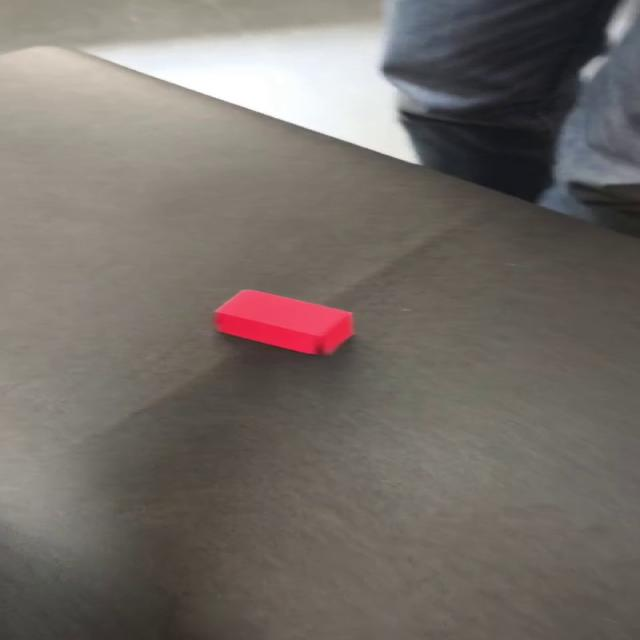red block: (210, 288, 354, 356)
